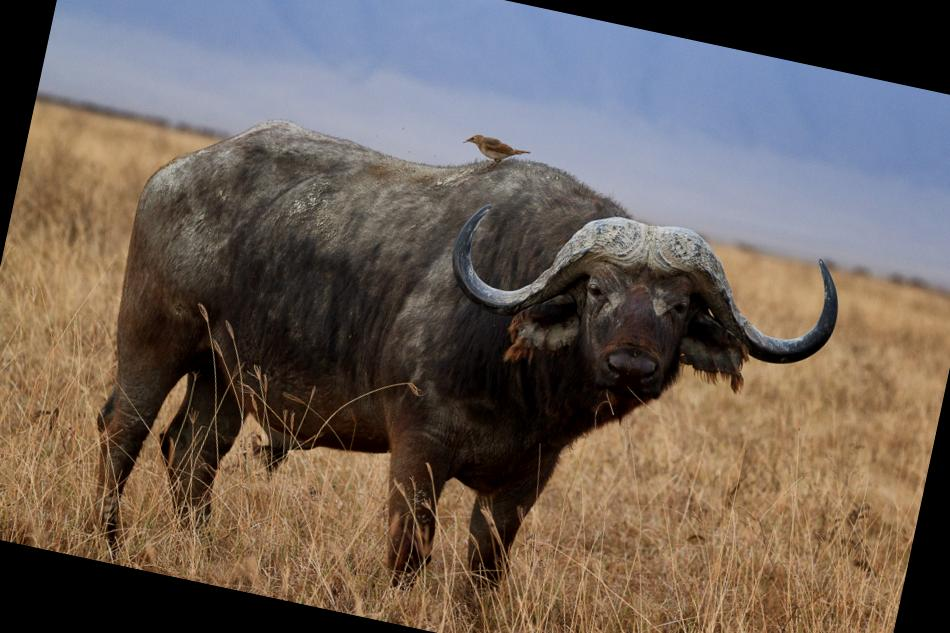Buffalo: (0, 27, 921, 633)
